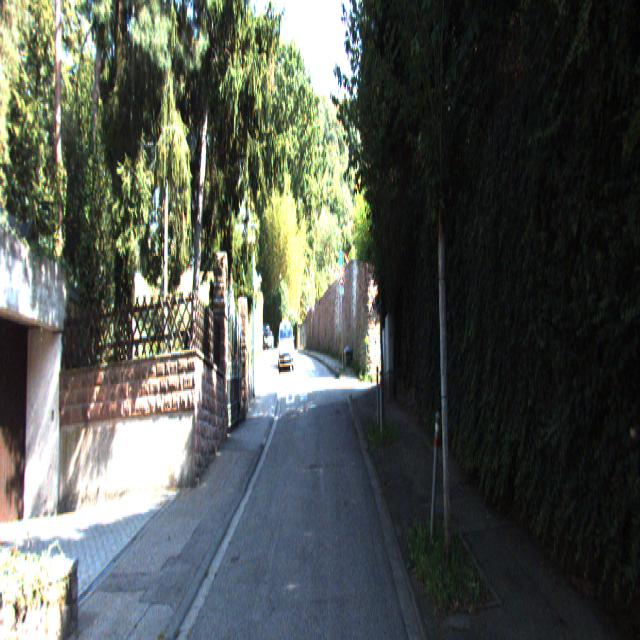Car: (279, 320, 295, 375)
